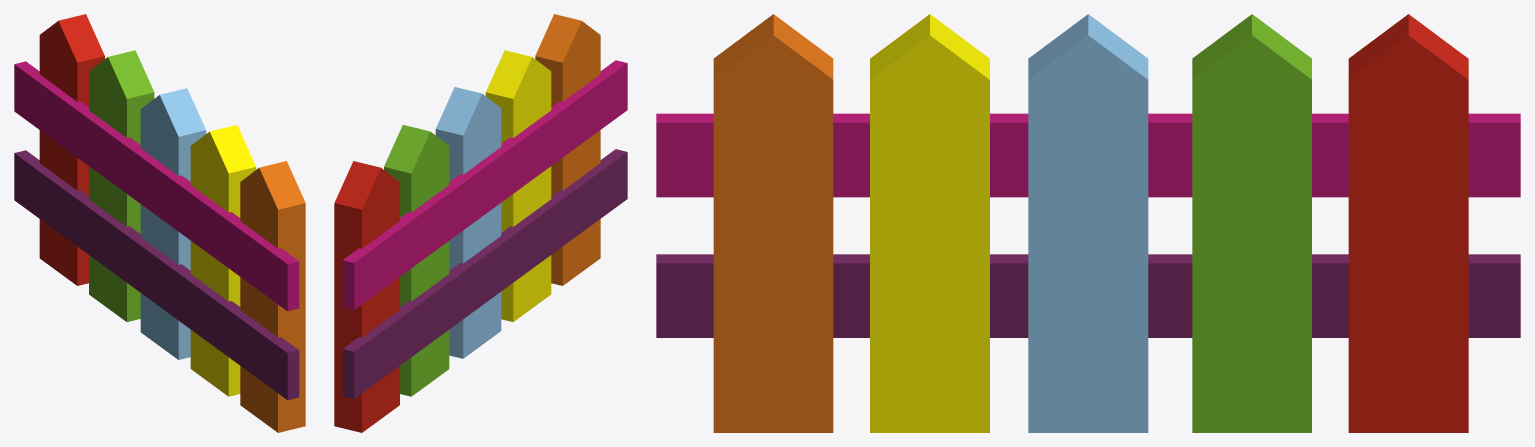
File: VallaOk.fbx
The picture shows the model from 3 angles, left to right: view 1: azimuth 30°, elevation 25°; view 2: azimuth 150°, elevation 25°; view 3: azimuth 270°, elevation 25°; orthographic projection. The views are drawn at different scales.
Parts seen in each view (by area): view 1: Valla; view 2: Valla; view 3: Valla.
Part boxes in pixels (left/top/right/bottom): Valla: left=14, top=14, right=305, bottom=432; Valla: left=334, top=14, right=627, bottom=432; Valla: left=656, top=14, right=1520, bottom=432.
Bounding box in the file's own units: 273 × 139 × 20.94.
Materials: 1 (1 with a texture image).
